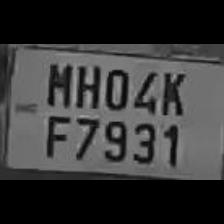0: (99, 62, 129, 110)
1: (158, 117, 182, 165)
3: (128, 116, 158, 164)
4: (130, 64, 159, 112)
7: (68, 111, 98, 161)
9: (100, 114, 128, 162)
F: (39, 110, 69, 158)
H: (72, 59, 100, 109)
K: (156, 66, 186, 116)
M: (43, 57, 73, 107)
